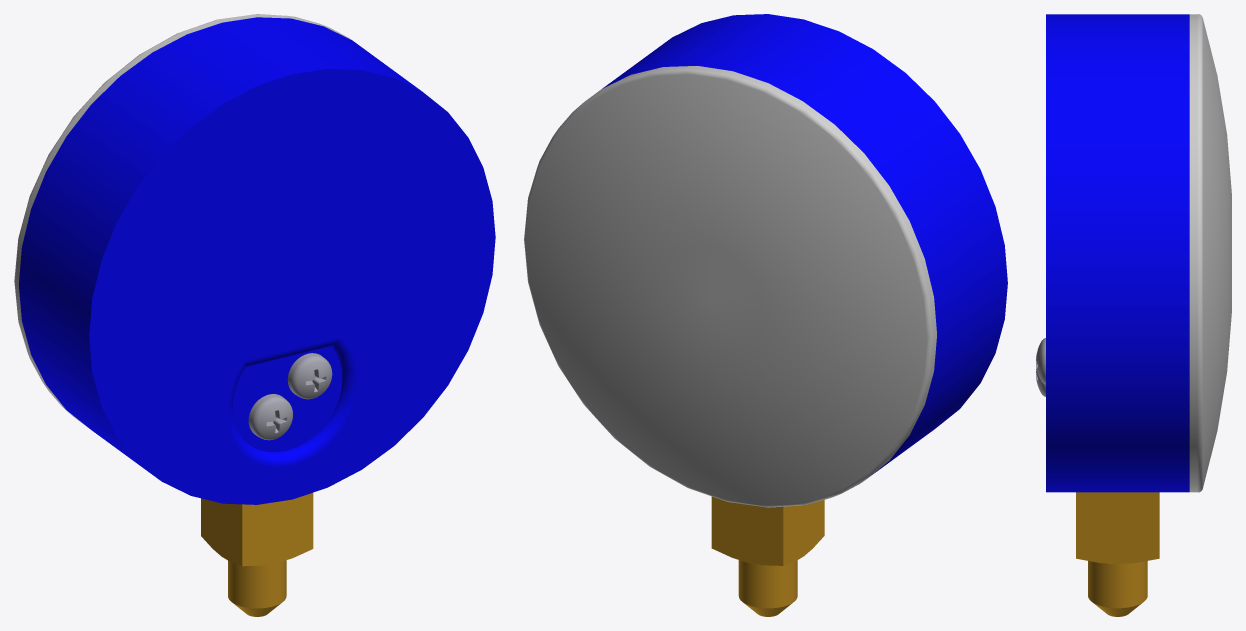
The model's file is Manometro LP.fbx.
3 views of the same model, side by side, from view 1: azimuth 30°, elevation 25°; view 2: azimuth 150°, elevation 25°; view 3: azimuth 270°, elevation 25° (orthographic). The views are drawn at different scales.
Parts seen in each view (by area): view 1: manometro BP, DIN EN ISO 7045 H M4 x 6 - 4.8 - H (×2), Coperchio manometro; view 2: Coperchio manometro, manometro BP; view 3: manometro BP, Coperchio manometro, DIN EN ISO 7045 H M4 x 6 - 4.8 - H.
Part boxes in pixels (x1,y1,x2,y2): manometro BP: [19, 17, 495, 616]; DIN EN ISO 7045 H M4 x 6 - 4.8 - H (×2): [248, 353, 332, 440]; Coperchio manometro: [14, 14, 351, 427]; Coperchio manometro: [524, 66, 936, 507]; manometro BP: [602, 14, 1007, 616]; manometro BP: [1046, 14, 1189, 616]; Coperchio manometro: [1189, 14, 1231, 492]; DIN EN ISO 7045 H M4 x 6 - 4.8 - H: [1036, 338, 1045, 384].
Bounding box in the file's own units: 8 × 10.6 × 3.27.
